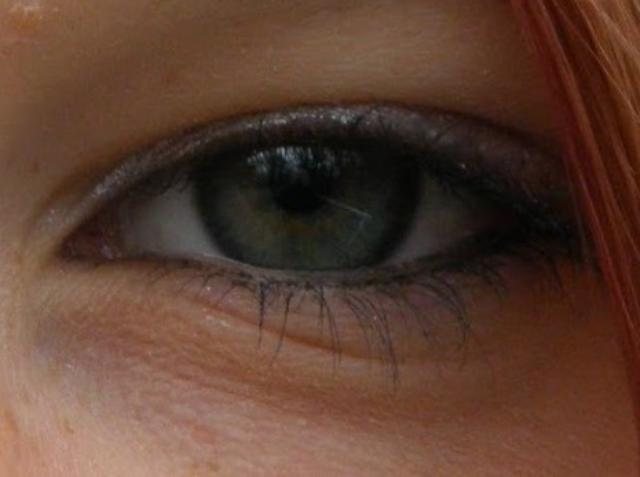eye: (195, 116, 422, 280)
